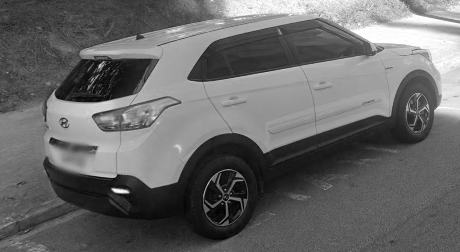car: (43, 13, 446, 239)
